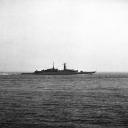Fragata: (20, 61, 100, 77)
